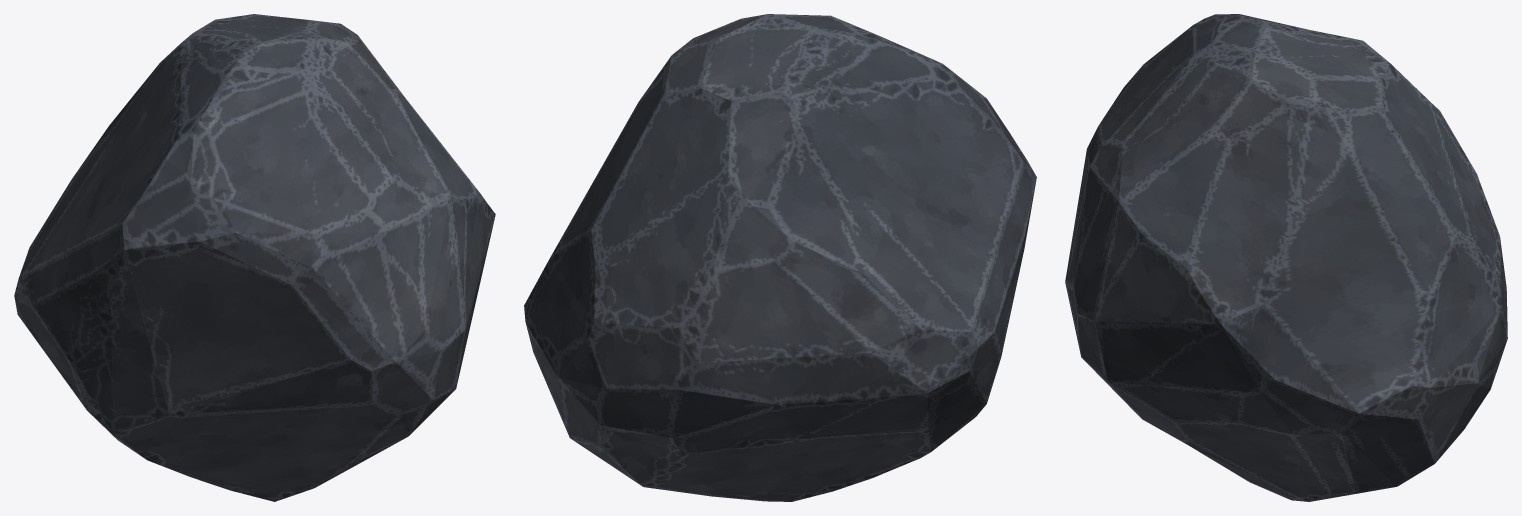
The model's file is rock_3.fbx.
3 renders of one model, left to right at view 1: azimuth 30°, elevation 25°; view 2: azimuth 150°, elevation 25°; view 3: azimuth 270°, elevation 25°, orthographic. The views are drawn at different scales.
Visible parts, largest first — view 1: rock 3 low; view 2: rock 3 low; view 3: rock 3 low.
Boxes of the visible parts, left/top/right/bottom form: rock 3 low: left=14, top=14, right=495, bottom=501; rock 3 low: left=524, top=14, right=1036, bottom=501; rock 3 low: left=1065, top=14, right=1507, bottom=501.
Size of the model in its own units: 105 by 107 by 95.87.
1 material, 1 textured.
